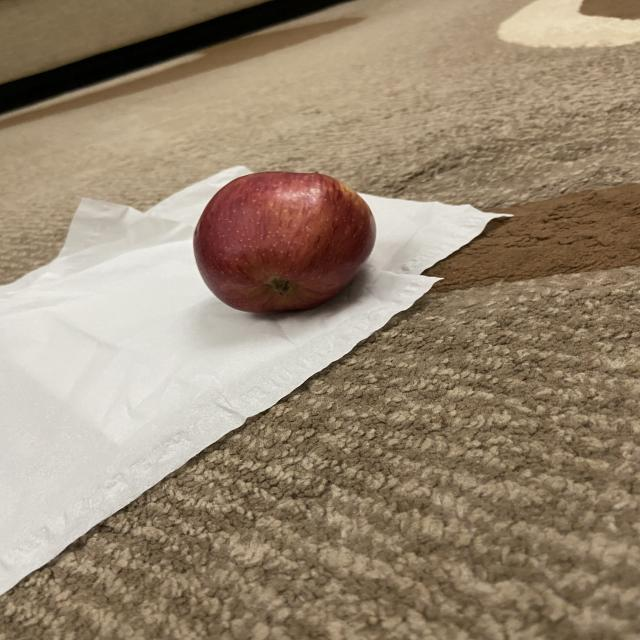apple: (187, 165, 379, 321)
